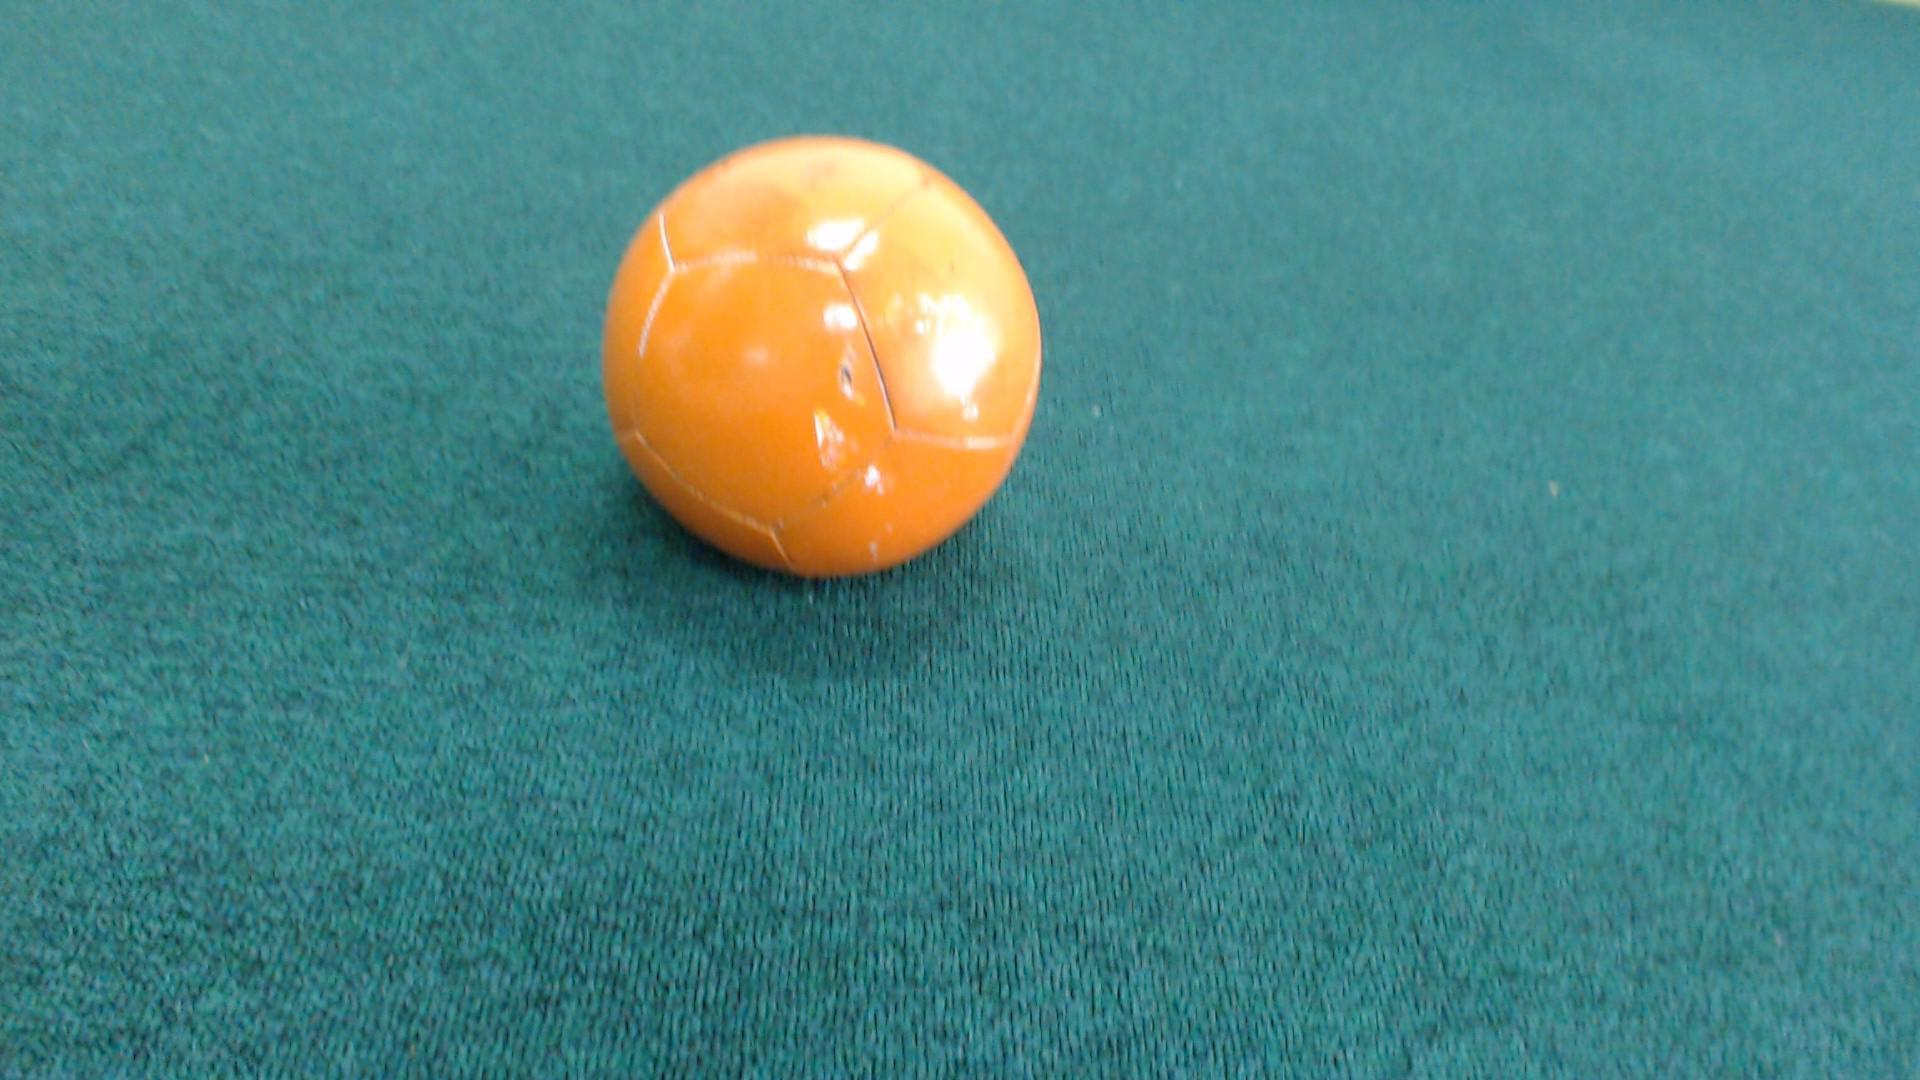bola: (560, 109, 1073, 595)
